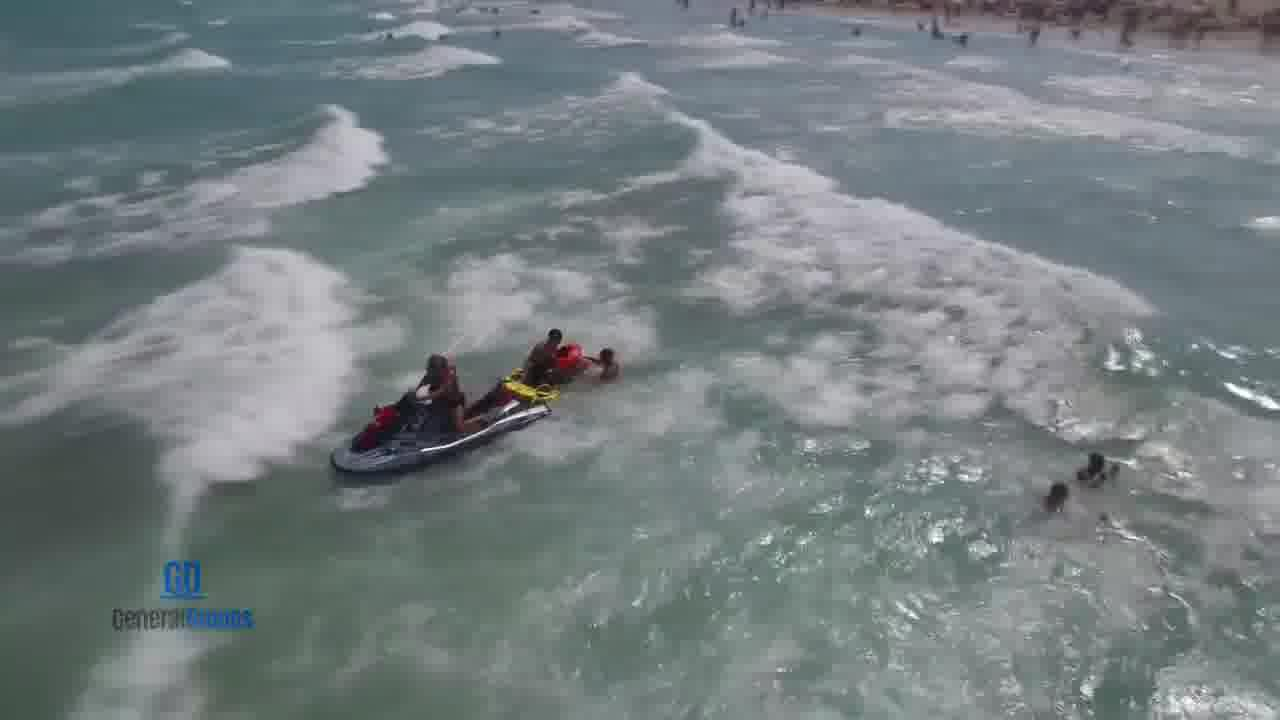swimmer: (526, 321, 583, 405), (594, 336, 652, 393), (1069, 437, 1124, 485), (1027, 478, 1071, 516)
